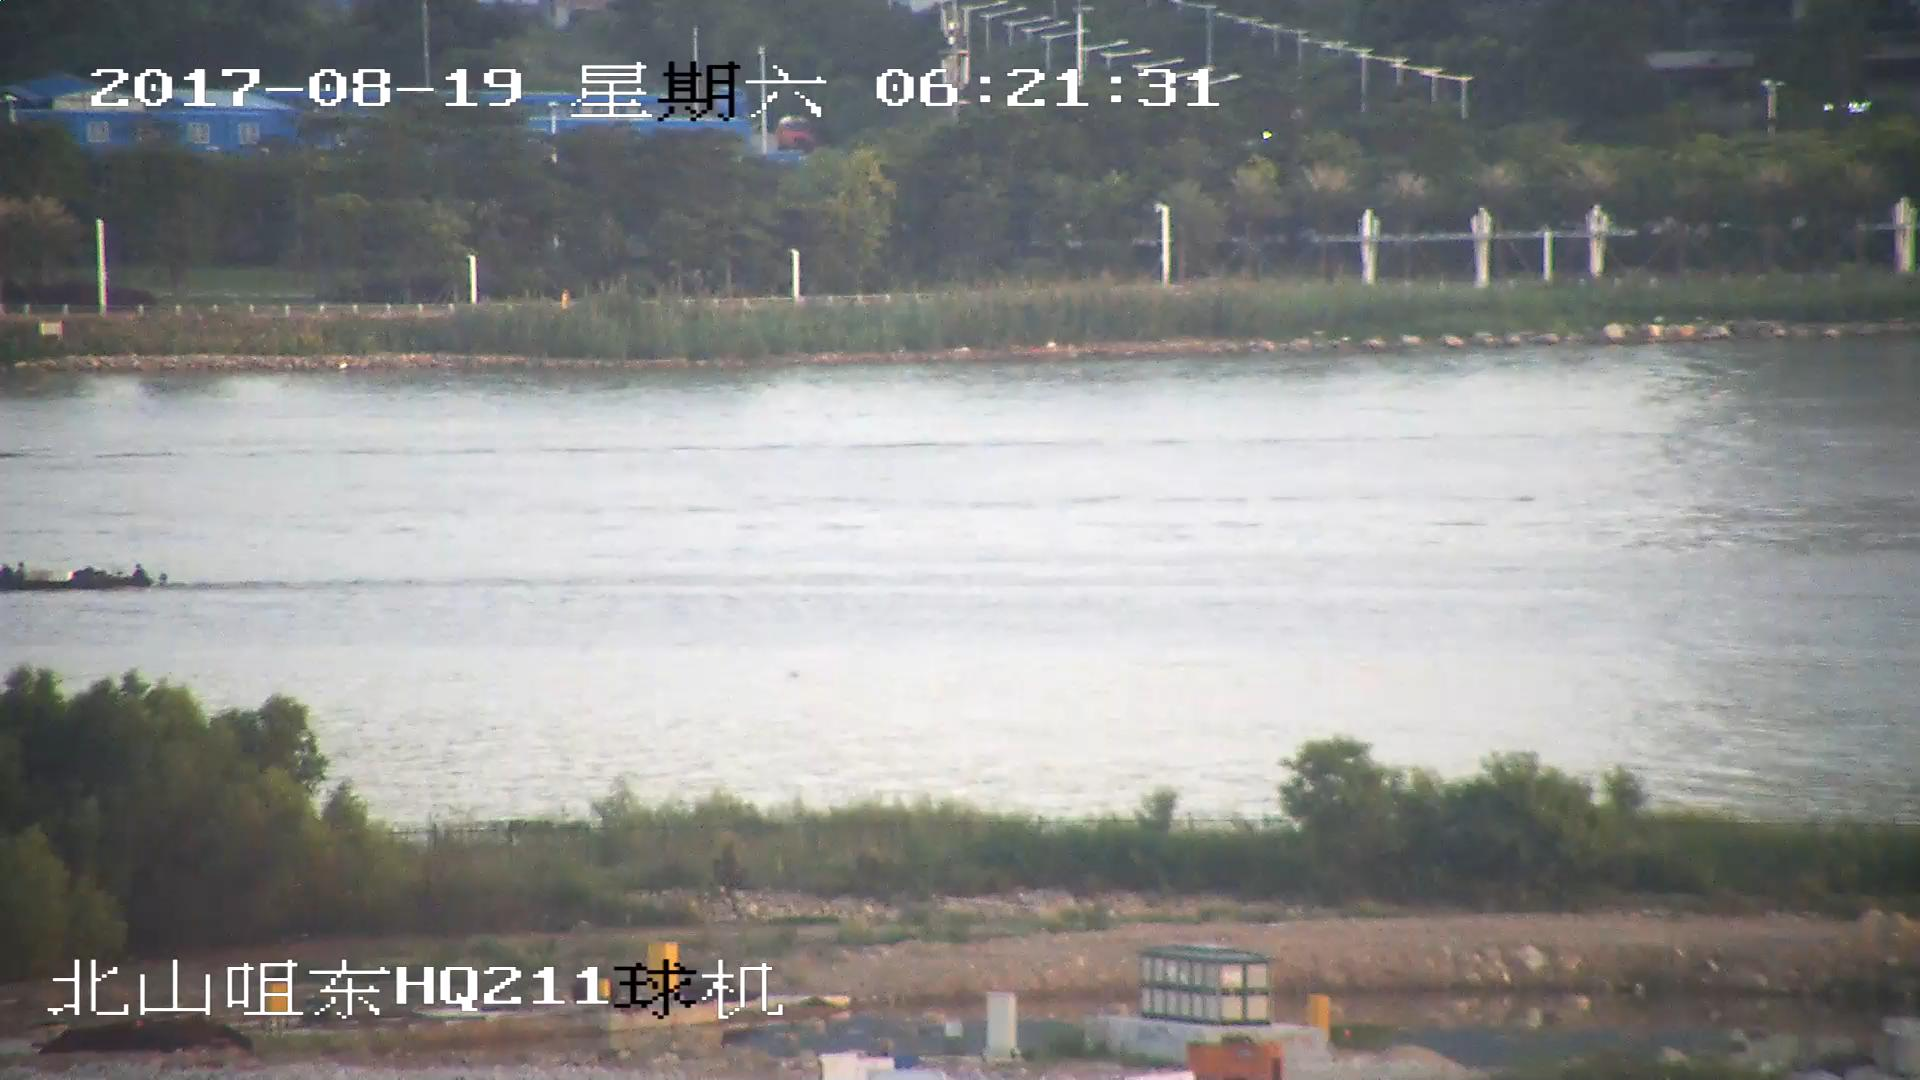fishing boat: (1, 556, 160, 595)
